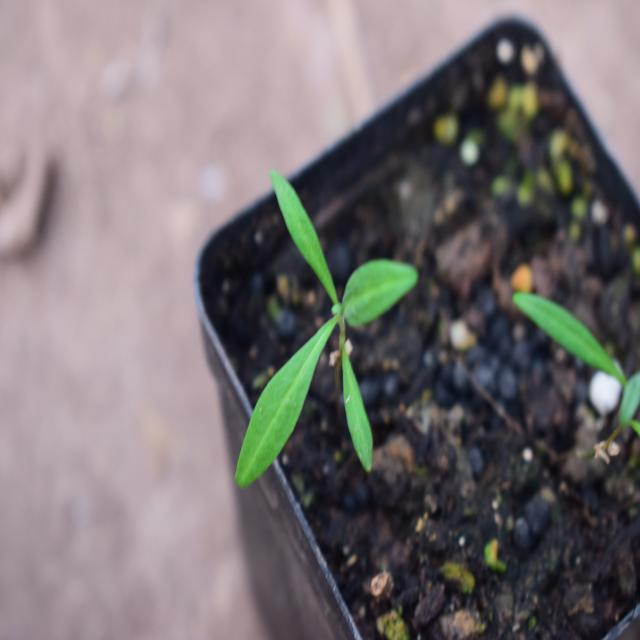white_smart_weed: (231, 170, 436, 516)
